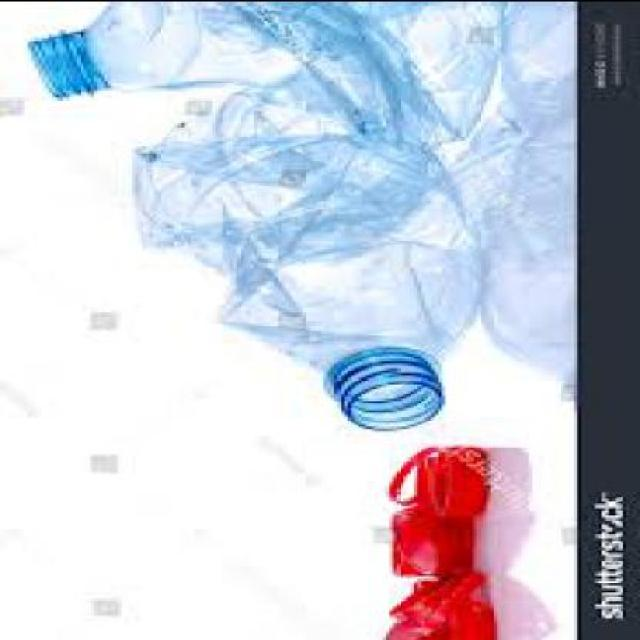PLASTIC: (129, 106, 483, 432), (28, 3, 504, 154), (390, 449, 490, 516), (383, 582, 499, 638), (390, 506, 476, 577), (385, 577, 484, 635)
